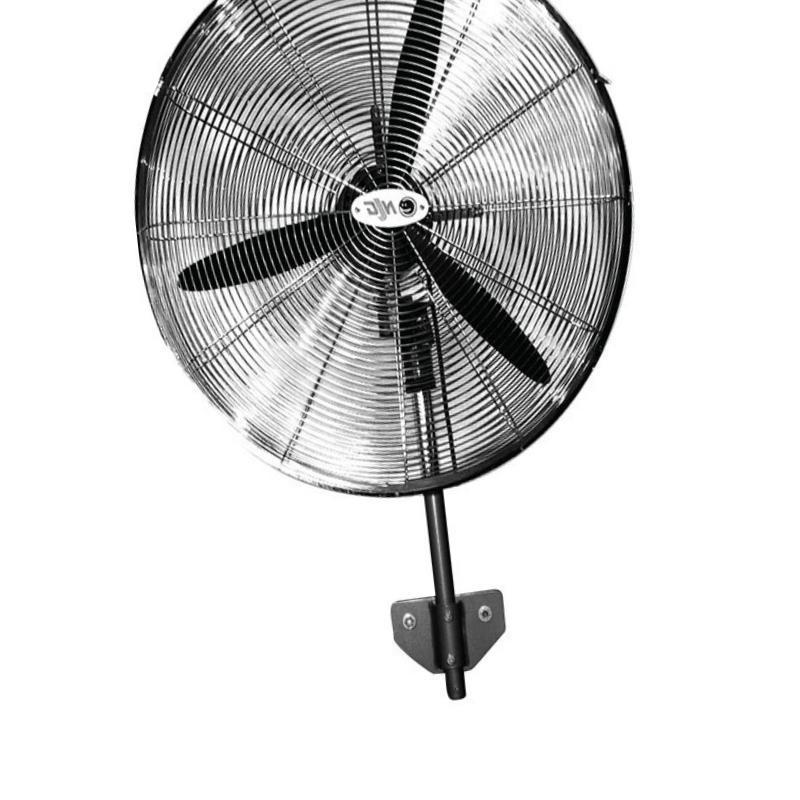fan: (126, 3, 643, 701)
